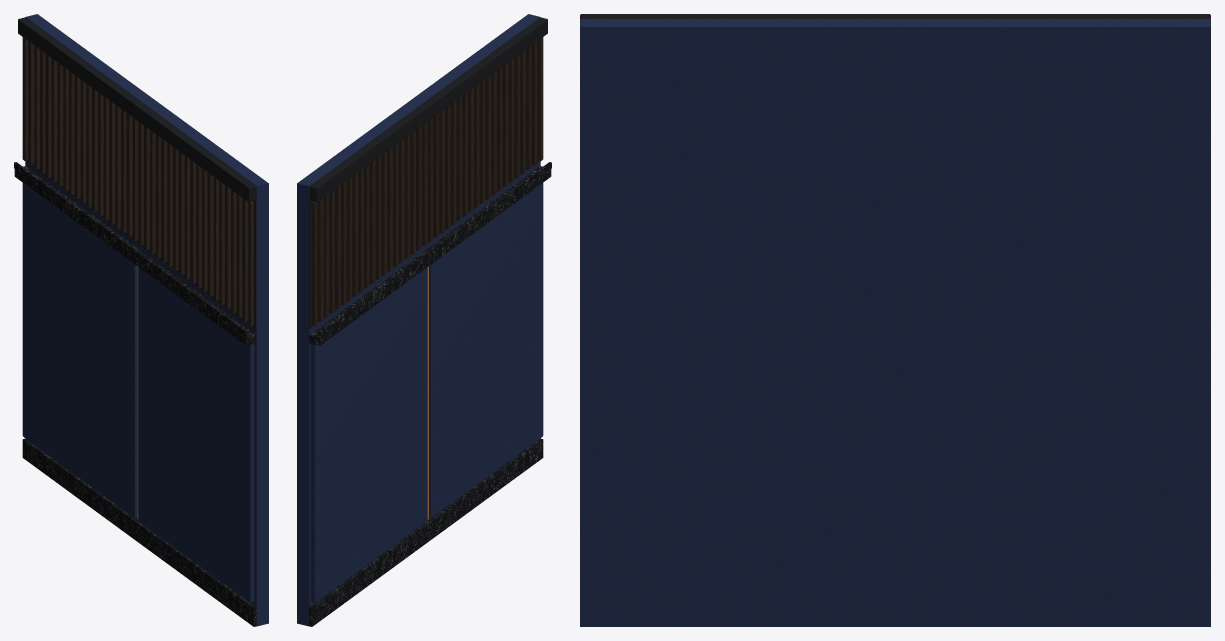
Rendered from SM_EC_Wall.glb.
The picture shows the model from 3 angles, left to right: view 1: azimuth 30°, elevation 25°; view 2: azimuth 150°, elevation 25°; view 3: azimuth 270°, elevation 25°; orthographic projection. The views are drawn at different scales.
Parts seen in each view (by area): view 1: SM_EC_Wall; view 2: SM_EC_Wall; view 3: SM_EC_Wall.
Part boxes in pixels (left/top/right/bottom): SM_EC_Wall: left=14, top=14, right=268, bottom=626; SM_EC_Wall: left=297, top=14, right=551, bottom=626; SM_EC_Wall: left=580, top=14, right=1210, bottom=626.
Bounding box in the file's own units: 0.235 × 4.2 × 4.
6 materials, 6 textured.
